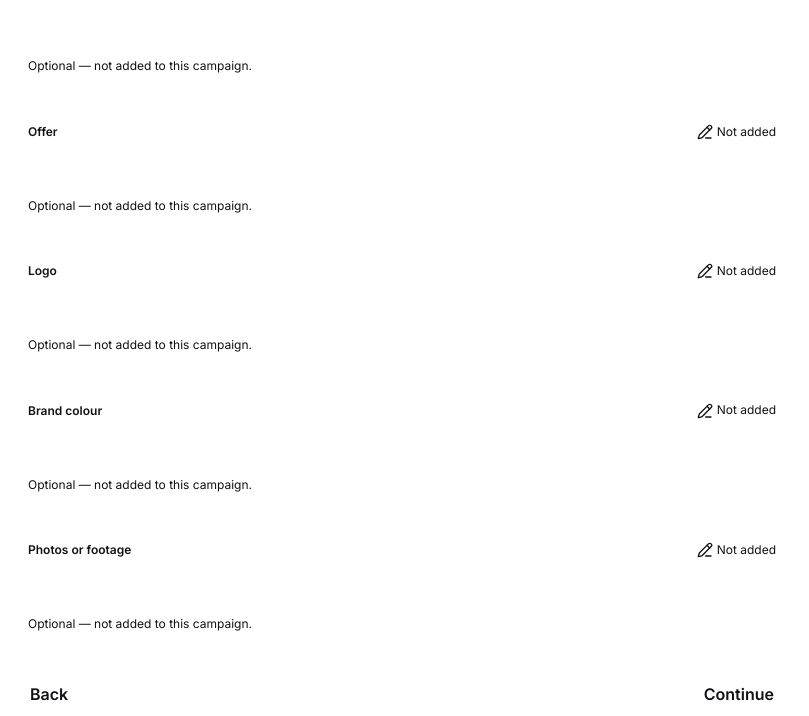
Test: golden path source recovery states › announces an adjacent required booking error, focuses it, and keeps all entered service values
(page scrolled)
Click the button "Continue".
click(739, 694)  # box [686, 672, 792, 715]
(page scrolled)
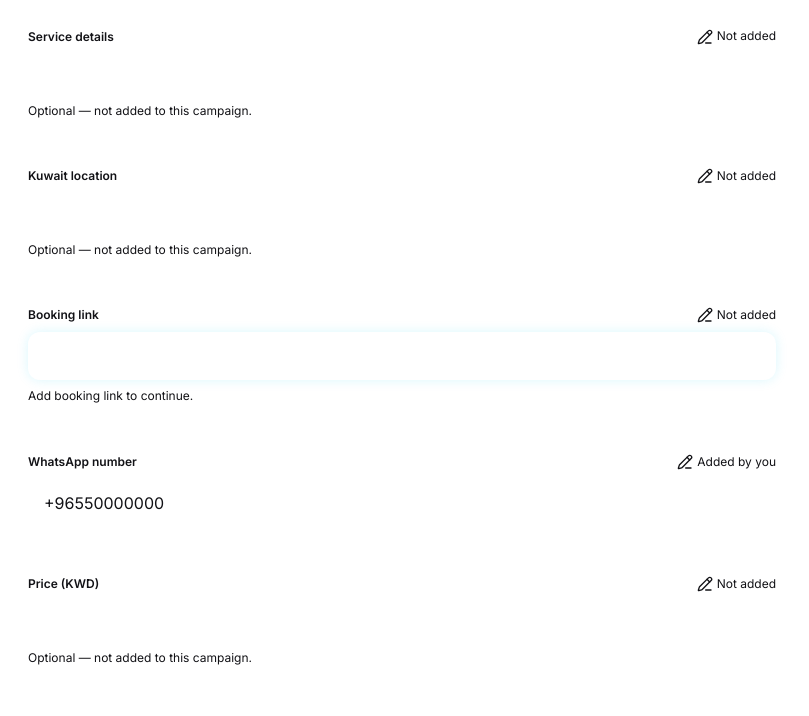
Expected: the field labelled "WhatsApp number" holds "+96550000000", [28, 479, 776, 527]
Now the message reads "Add booking link to continue.", box [28, 388, 193, 404]
